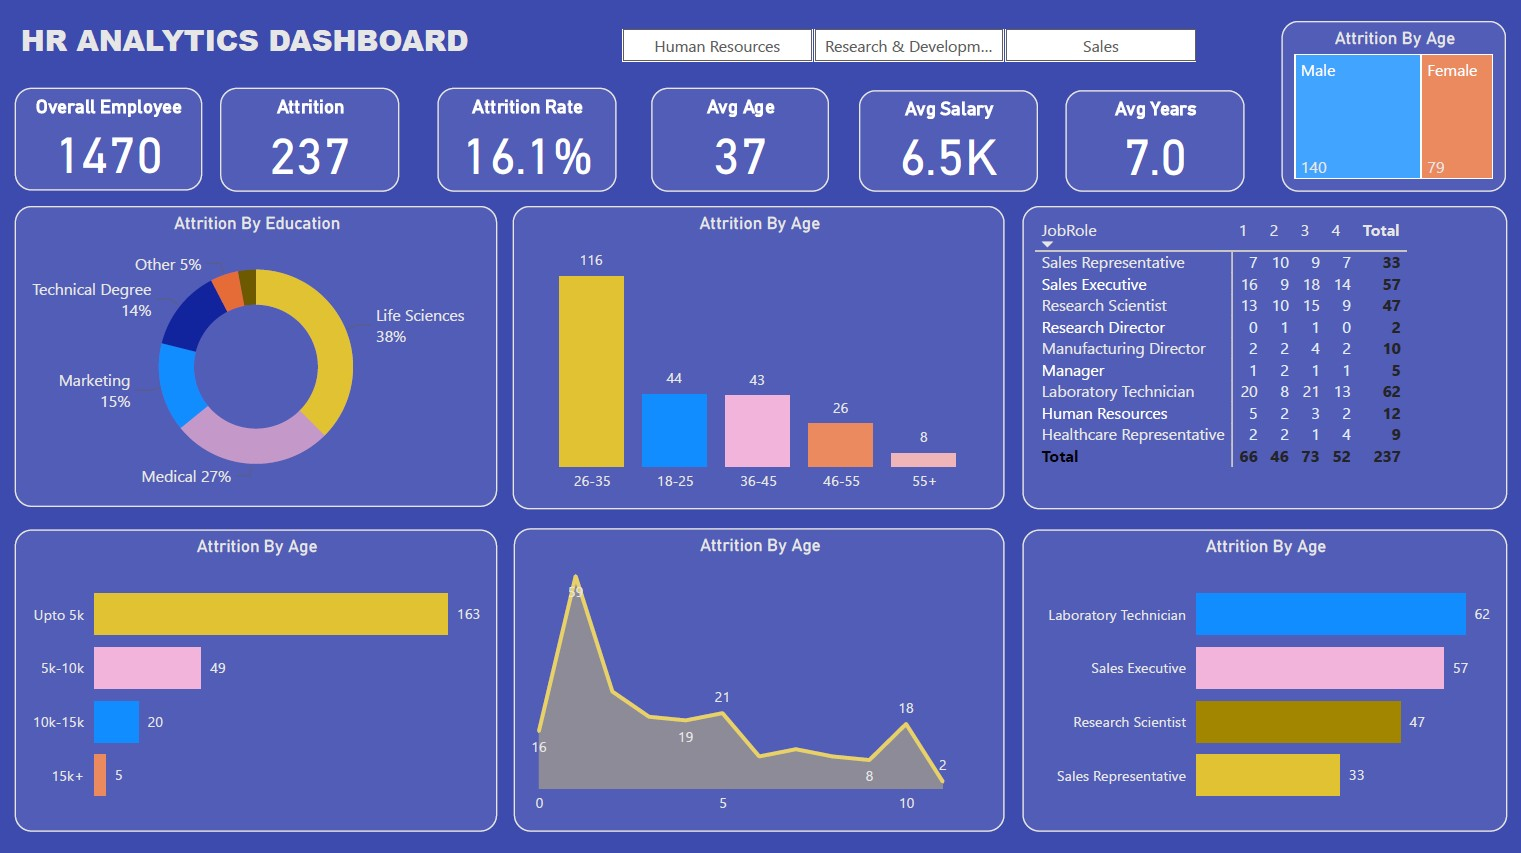

This screenshot's page, from the dashboard's own definition file:
{"tool":"powerbi","page":{"name":"Page 1","canvas":[1280,720],"ordinal":0},"visuals":[{"type":"card","title":"Overall Employee","fields":{"Values":["CountNonNull(HR_Analytics.EmpID)"]},"box":[15.7,78.4,156.8,85.7],"z":0},{"type":"card","title":"Attrition","fields":{"Values":["Sum(HR_Analytics.AttritionValue)"]},"box":[188,78.2,149.6,86.4],"z":1000},{"type":"card","title":"Attrition Rate","fields":{"Values":["HR_Analytics.AttritionRate"]},"box":[370.5,78.2,149.6,86.4],"z":2000},{"type":"card","title":"Avg Age","fields":{"Values":["Avg(HR_Analytics.Age)"]},"box":[548.9,78.2,149.6,86.4],"z":3000},{"type":"card","title":"Avg Salary","fields":{"Values":["Avg(HR_Analytics.MonthlyIncome)"]},"box":[723.2,79.6,149.6,85.1],"z":4000},{"type":"card","title":"Avg Years","fields":{"Values":["Avg(HR_Analytics.YearsAtCompany)"]},"box":[896.1,79.6,149.6,85.1],"z":5000},{"type":"donutChart","title":"Attrition By Education","fields":{"Category":["HR_Analytics.EducationField"],"Y":["Sum(HR_Analytics.AttritionValue)"]},"box":[15.7,177.3,404.2,252.1],"z":6000},{"type":"columnChart","title":"Attrition By Age","fields":{"Category":["HR_Analytics.AgeGroup"],"Y":["Sum(HR_Analytics.AttritionValue)"]},"box":[433.1,177.3,411.4,253.4],"z":7000},{"type":"pivotTable","fields":{"Rows":["HR_Analytics.JobRole"],"Columns":["HR_Analytics.JobSatisfaction"],"Values":["Sum(HR_Analytics.AttritionValue)"]},"box":[860.2,177.3,405.4,253.4],"z":8000},{"type":"barChart","title":"Attrition By Age","fields":{"Category":["HR_Analytics.SalarySlab"],"Y":["Sum(HR_Analytics.AttritionValue)"]},"box":[15.7,447.6,404.2,253.4],"z":9000},{"type":"barChart","title":"Attrition By Age","fields":{"Category":["HR_Analytics.JobRole"],"Y":["Sum(HR_Analytics.AttritionValue)"]},"box":[860.2,447.6,405.4,253.4],"z":10000},{"type":"areaChart","title":"Attrition By Age","fields":{"Category":["HR_Analytics.YearsAtCompany"],"Y":["Sum(HR_Analytics.AttritionValue)"]},"box":[433.6,447.3,411.7,253.9],"z":11000},{"type":"treemap","title":"Attrition By Age","fields":{"Group":["HR_Analytics.Gender"],"Values":["Sum(HR_Analytics.AttritionValue)"]},"box":[1077.2,22,188,142.7],"z":12000},{"type":"slicer","fields":{"Values":["HR_Analytics.Department"]},"box":[499.5,21.7,529.6,41],"z":13000},{"type":"textbox","box":[15.7,15.7,395.7,47.1],"z":14000}]}

Visuals, with their boxes in screenshot pixels (x1, y1, x2, y2), scaled from the page's 1280x720 canvas onto the 1521x853 screenshot:
"Overall Employee" card: 19:93:205:194
"Attrition" card: 223:93:401:195
"Attrition Rate" card: 440:93:618:195
"Avg Age" card: 652:93:830:195
"Avg Salary" card: 859:94:1037:195
"Avg Years" card: 1065:94:1243:195
"Attrition By Education" donutChart: 19:210:499:509
"Attrition By Age" columnChart: 515:210:1004:510
pivotTable - HR_Analytics.JobRole x HR_Analytics.JobSatisfaction: 1022:210:1504:510
"Attrition By Age" barChart: 19:530:499:830
"Attrition By Age" barChart: 1022:530:1504:830
"Attrition By Age" areaChart: 515:530:1004:831
"Attrition By Age" treemap: 1280:26:1503:195
slicer - HR_Analytics.Department: 594:26:1223:74
textbox: 19:19:489:74
